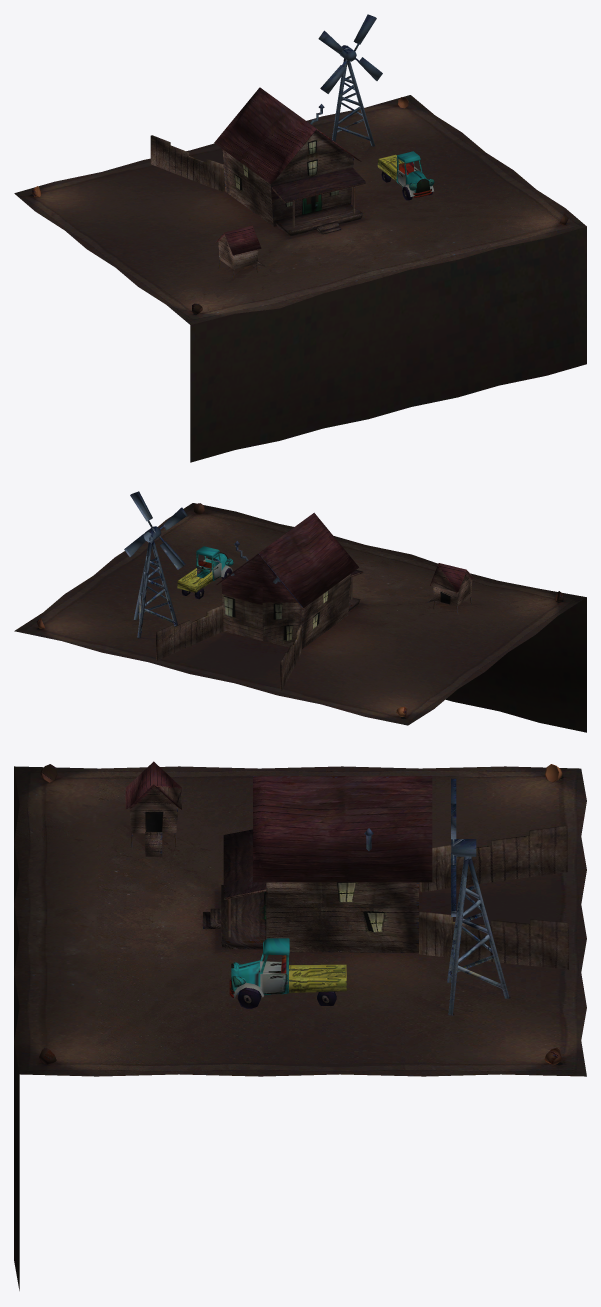
File: courage_map.glb
The picture shows the model from 3 angles, top to bottom: view 1: azimuth 30°, elevation 25°; view 2: azimuth 150°, elevation 25°; view 3: azimuth 270°, elevation 25°; orthographic projection. The views are drawn at different scales.
Parts seen in each view (by area): view 1: courageMap; view 2: courageMap; view 3: courageMap.
Part boxes in pixels (x1,y1,x2,y2): courageMap: [14, 14, 586, 462]; courageMap: [14, 491, 586, 732]; courageMap: [14, 761, 586, 1290].
Size of the model in its own units: 20.99 by 13.45 by 16.39.
Materials: 1 (1 with a texture image).
